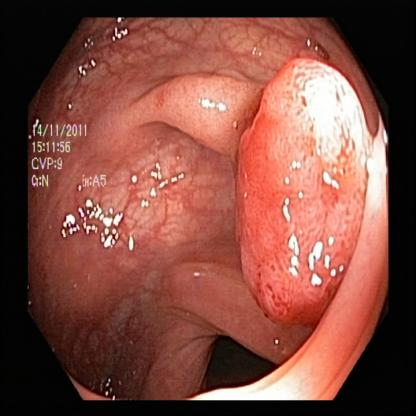Labels: (27, 115, 116, 198)
Polyps: (240, 57, 363, 307)
